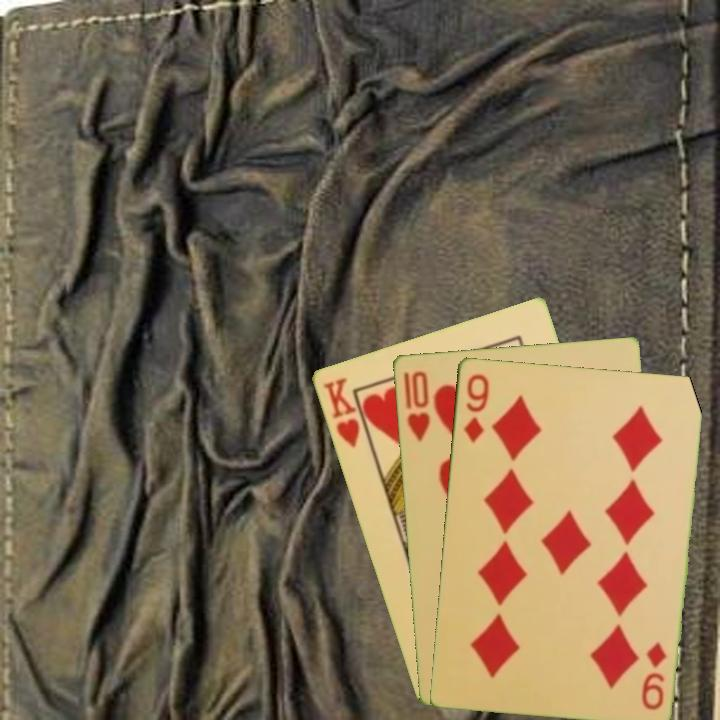10h: (403, 367, 432, 444)
9d: (460, 370, 492, 445), (638, 638, 669, 712)
Kh: (319, 373, 373, 451)
